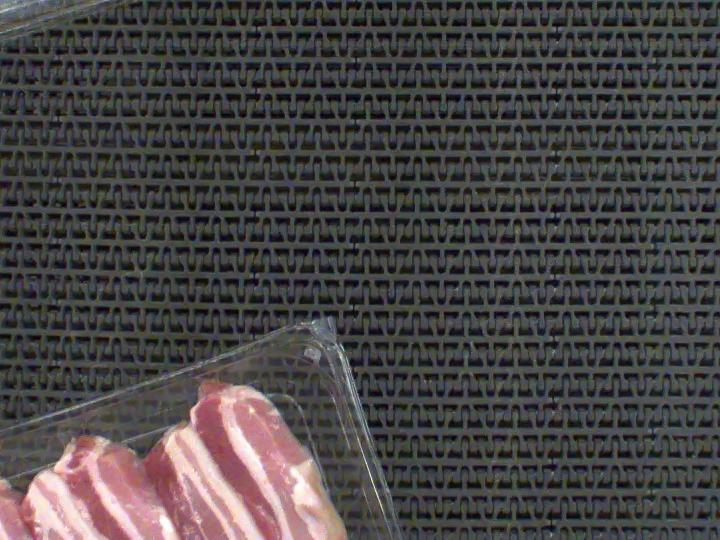packaging-error: (194, 368, 224, 384)
